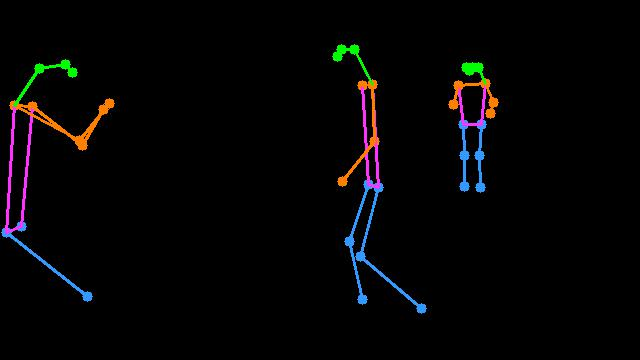normal: (299, 31, 442, 327), (444, 58, 501, 202)
